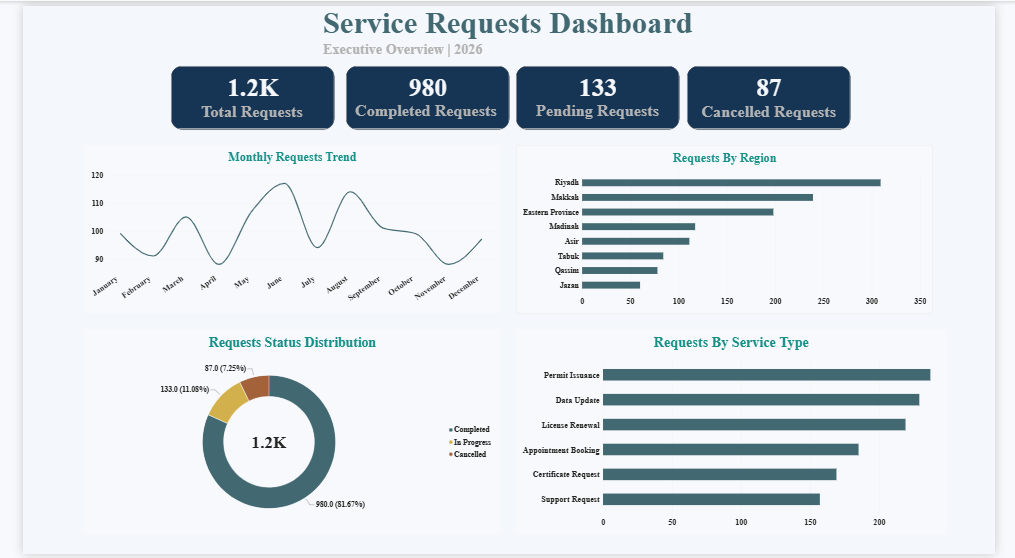

The page's visual inventory and layout, read from the dashboard file:
{"tool":"powerbi","page":{"name":"Executive Overview","canvas":[2560,1440],"ordinal":0},"visuals":[{"type":"cardVisual","fields":{"Data":["طلبات الخدمات.الطلبات الملغاة"]},"box":[1746.7,156.7,430,166.7],"z":0},{"type":"cardVisual","fields":{"Data":["طلبات الخدمات.Pending Requests"]},"box":[1296.7,156.7,430,166.7],"z":1000},{"type":"cardVisual","fields":{"Data":["طلبات الخدمات.Completed Requests"]},"box":[850,156.7,430,166.7],"z":2000},{"type":"cardVisual","fields":{"Data":["طلبات الخدمات.Total Requests"]},"box":[390,156.7,430,166.7],"z":3000},{"type":"textbox","box":[1766.7,253.3,393.3,63.3],"z":4000},{"type":"textbox","box":[1343.3,250,340,56.7],"z":5000},{"type":"textbox","box":[860,250,410,70],"z":6000},{"type":"textbox","box":[456.7,253.3,300,52.5],"z":7000},{"type":"lineChart","title":"Monthly Requests Trend","fields":{"Category":["طلبات الخدمات.تاريخ الطلب.Variation.Date Hierarchy.Month"],"Y":["طلبات الخدمات.Total Requests"]},"box":[160,366.7,1096.7,443.3],"z":8000},{"type":"textbox","box":[790,0,980,155],"z":9000},{"type":"clusteredBarChart","title":"Requests By Region","fields":{"Category":["طلبات الخدمات.المنطقة"],"Y":["طلبات الخدمات.Total Requests"]},"box":[1296.7,366.7,1096.7,443.3],"z":10000},{"type":"donutChart","title":" Requests Status Distribution","fields":{"Category":["طلبات الخدمات.حالة الطلب"],"Y":["طلبات الخدمات.Total Requests"]},"box":[160,850,1096.7,540],"z":11000},{"type":"clusteredBarChart","title":"Requests By Service Type","fields":{"Category":["طلبات الخدمات.نوع الخدمة"],"Y":["طلبات الخدمات.Total Requests"]},"box":[1296.7,850,1133.3,540],"z":11001}]}

Visuals, with their boxes in screenshot pixels (x1, y1, x2, y2), scaled from the page's 2560x1440 canvas onto the 1015x558 screenshot:
cardVisual - طلبات الخدمات.الطلبات الملغاة: box(693, 61, 863, 125)
cardVisual - طلبات الخدمات.Pending Requests: box(514, 61, 685, 125)
cardVisual - طلبات الخدمات.Completed Requests: box(337, 61, 508, 125)
cardVisual - طلبات الخدمات.Total Requests: box(155, 61, 325, 125)
textbox: box(700, 98, 856, 123)
textbox: box(533, 97, 667, 119)
textbox: box(341, 97, 504, 124)
textbox: box(181, 98, 300, 118)
"Monthly Requests Trend" lineChart: box(63, 142, 498, 314)
textbox: box(313, 0, 702, 60)
"Requests By Region" clusteredBarChart: box(514, 142, 949, 314)
" Requests Status Distribution" donutChart: box(63, 329, 498, 539)
"Requests By Service Type" clusteredBarChart: box(514, 329, 963, 539)
